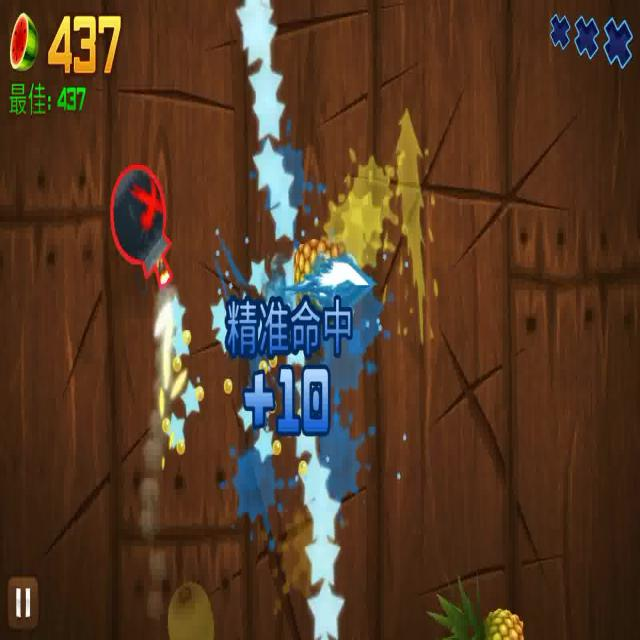bomb: (108, 163, 172, 289)
fruit: (428, 569, 526, 640), (294, 230, 342, 322), (168, 584, 216, 640)
